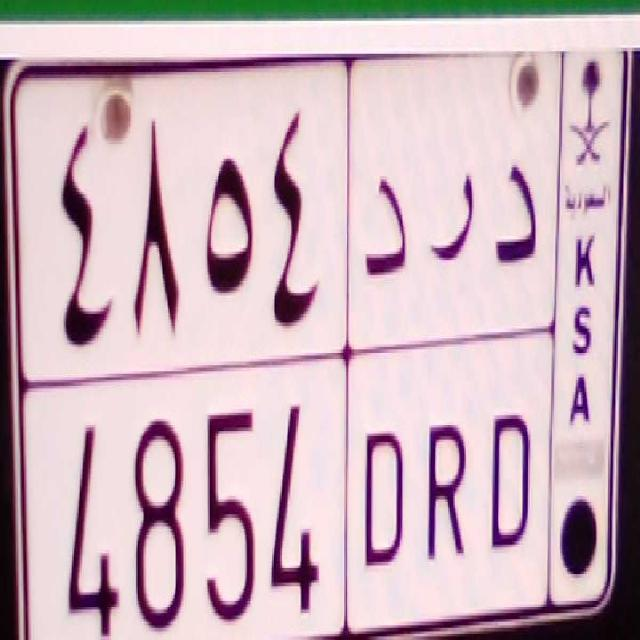license_plate: (35, 356, 545, 640)
